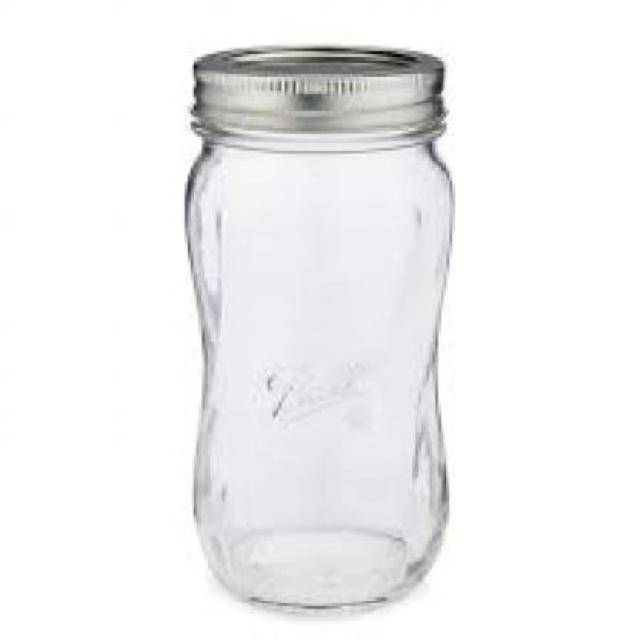kaca: (182, 114, 452, 611)
